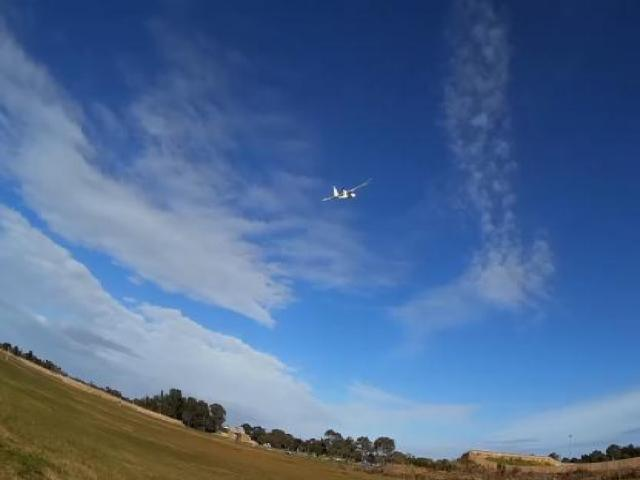uav: (315, 172, 374, 210)
